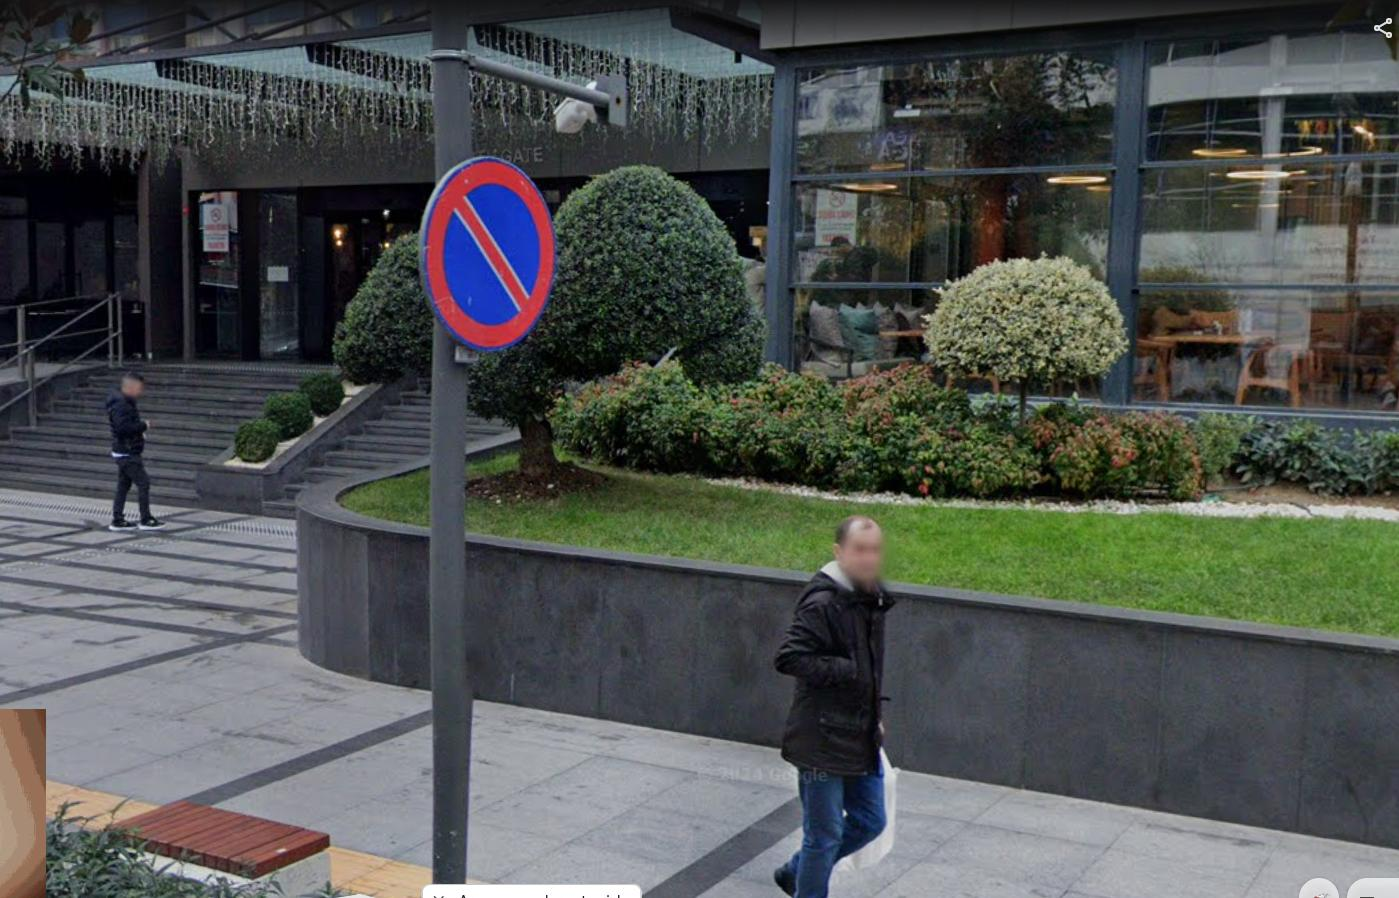nopark: (427, 158, 553, 348)
